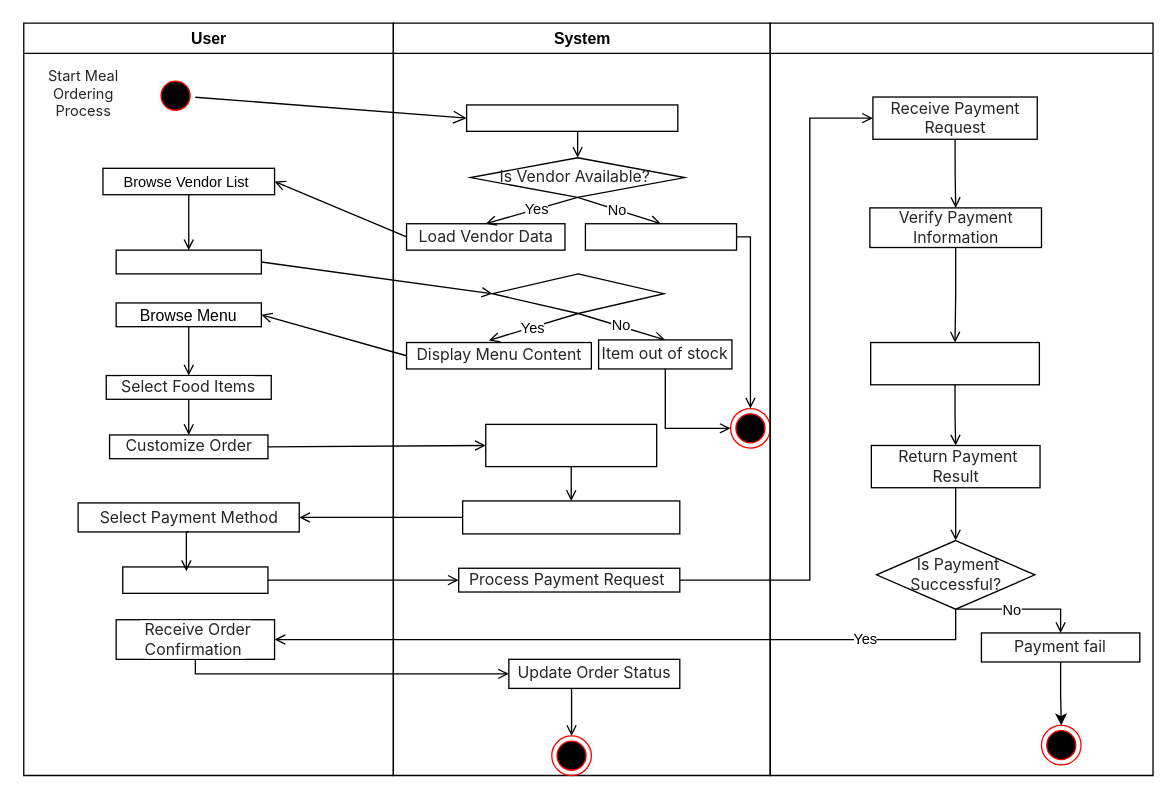
The diagram is 1176 pixels wide and 799 high, and some of its shapes have lost their labels. Each missing label, with the box of its shape:
Calculate Order Total: (461, 500, 680, 534)
Confirm Payment: (121, 566, 268, 593)
Is Item In Stock?: (491, 273, 664, 314)
Payment System: (769, 22, 1153, 776)
Process Payment Transaction: (869, 341, 1039, 385)
Process Shopping Cart Operations: (484, 423, 657, 467)
Select Vendor: (115, 249, 261, 274)
Vendor unavailable: (584, 222, 737, 250)
Verify User Login Status: (465, 104, 678, 131)
